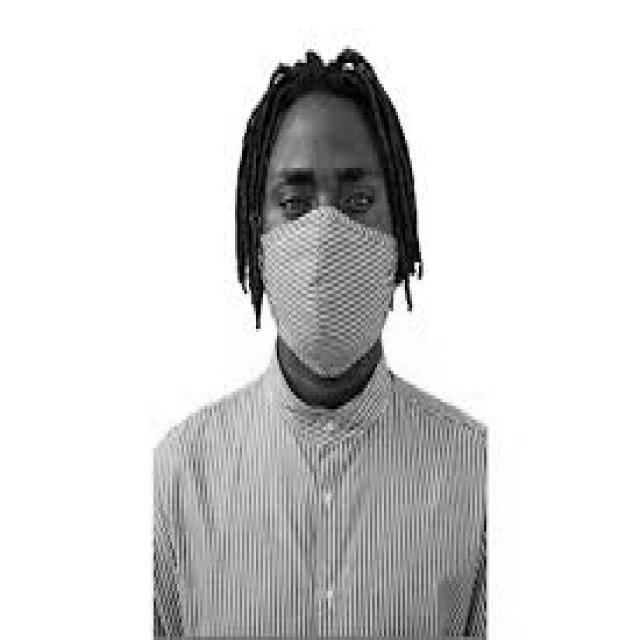fake: (246, 207, 402, 393)
real: (255, 92, 397, 385)
